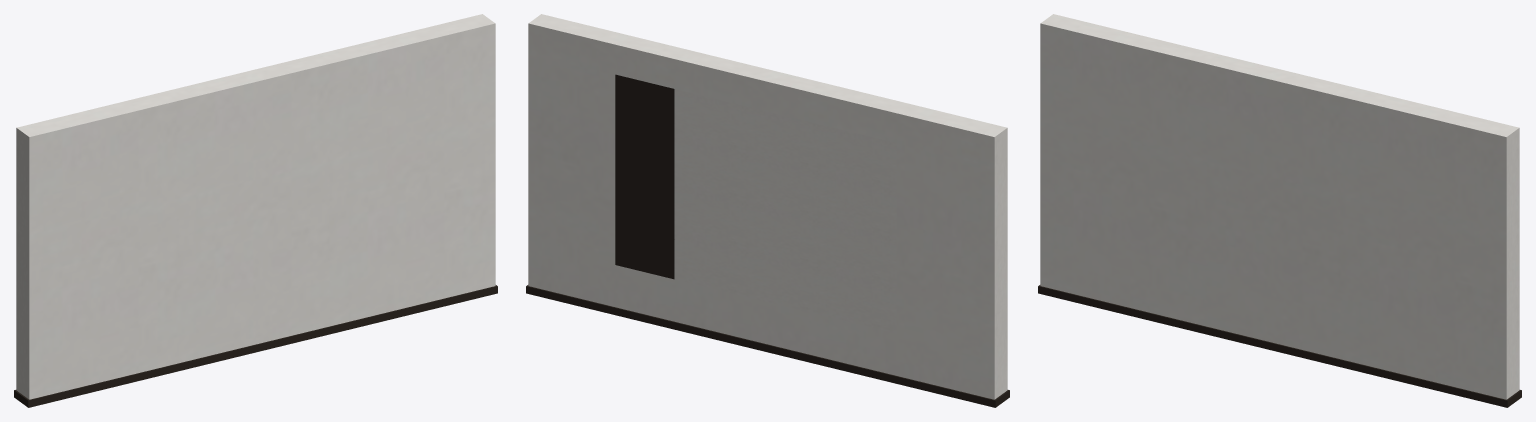
Rendered from font_wall.fbx.
3 renders of one model, left to right at view 1: azimuth 30°, elevation 25°; view 2: azimuth 150°, elevation 25°; view 3: azimuth 330°, elevation 25°, orthographic.
Parts seen in each view (by area): view 1: polySurface1; view 2: polySurface1, polySurface2; view 3: polySurface1.
Part boxes in pixels (x1=…): polySurface1: x1=14, y1=14, x2=497, y2=407; polySurface1: x1=526, y1=14, x2=1009, y2=407; polySurface2: x1=615, y1=74, x2=896, y2=333; polySurface1: x1=1038, y1=14, x2=1521, y2=407.
Bounding box in the file's own units: 824 × 453 × 43.63.
